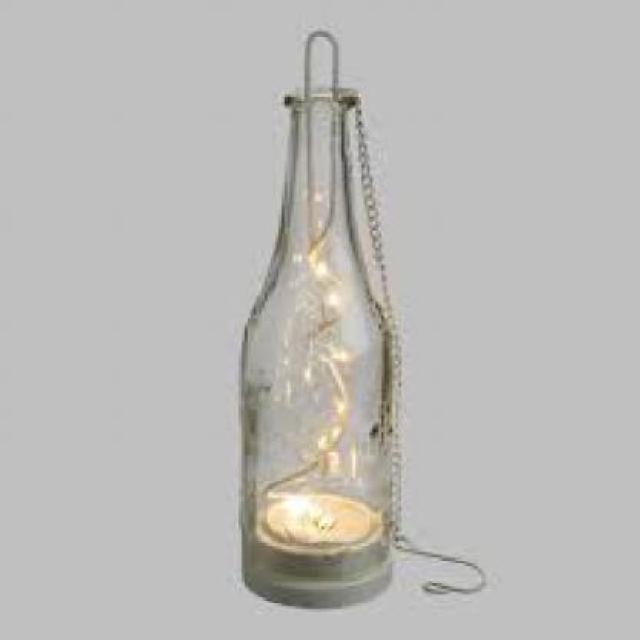kaca: (240, 85, 391, 606)
